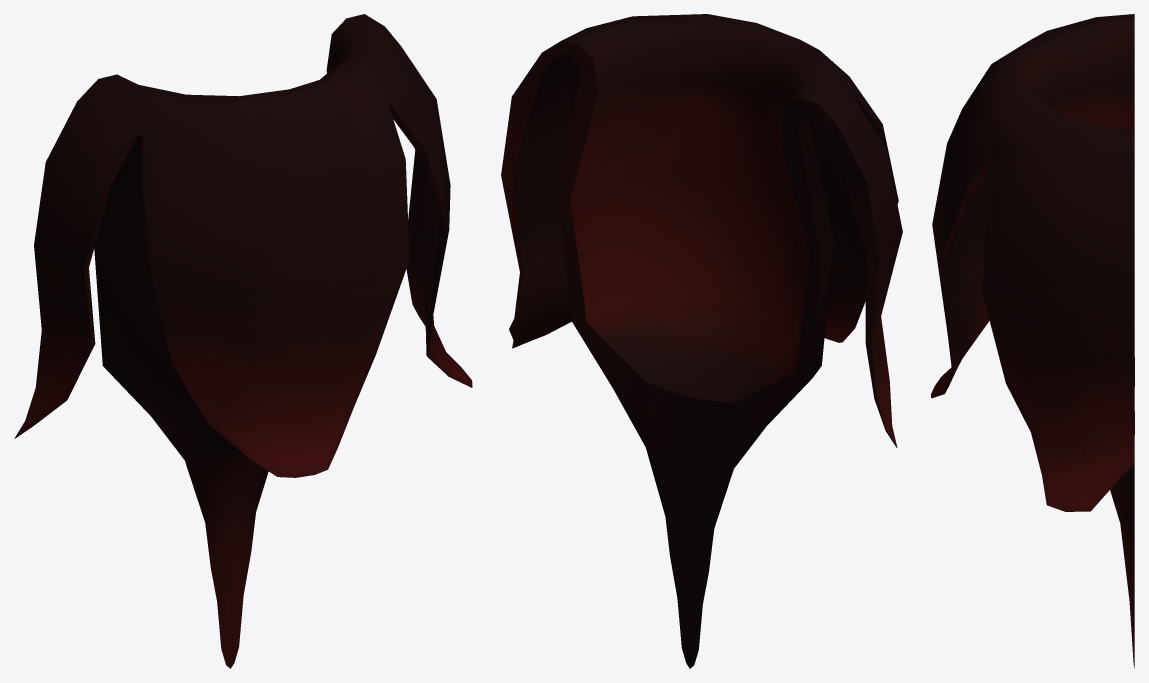
File: Sepal_01.gltf
3 renders of one model, left to right at view 1: azimuth 30°, elevation 25°; view 2: azimuth 150°, elevation 25°; view 3: azimuth 270°, elevation 25°, orthographic. The views are drawn at different scales.
Visible parts, largest first — view 1: Sepal_01; view 2: Sepal_01; view 3: Sepal_01.
Part boxes in pixels (left/top/right/bottom): Sepal_01: left=14, top=14, right=472, bottom=668; Sepal_01: left=501, top=14, right=902, bottom=668; Sepal_01: left=931, top=14, right=1134, bottom=668.
Size of the model in its own units: 10.24 by 14.34 by 4.46.
Materials: 1 (1 with a texture image).
